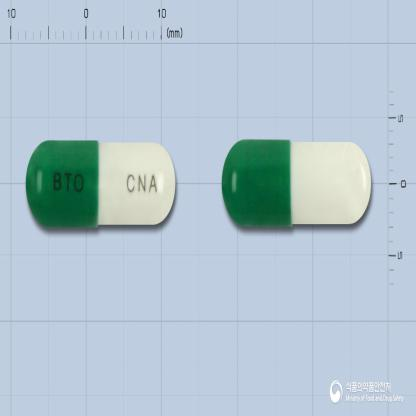pill: (25, 136, 177, 228), (220, 137, 373, 228)
